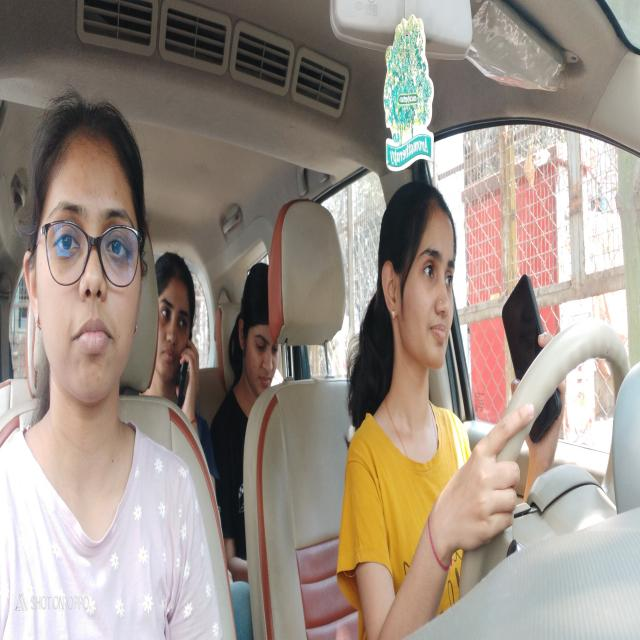mobile: (497, 276, 564, 446)
person: (22, 91, 149, 408), (374, 175, 462, 375), (149, 255, 199, 395), (235, 254, 280, 398)
